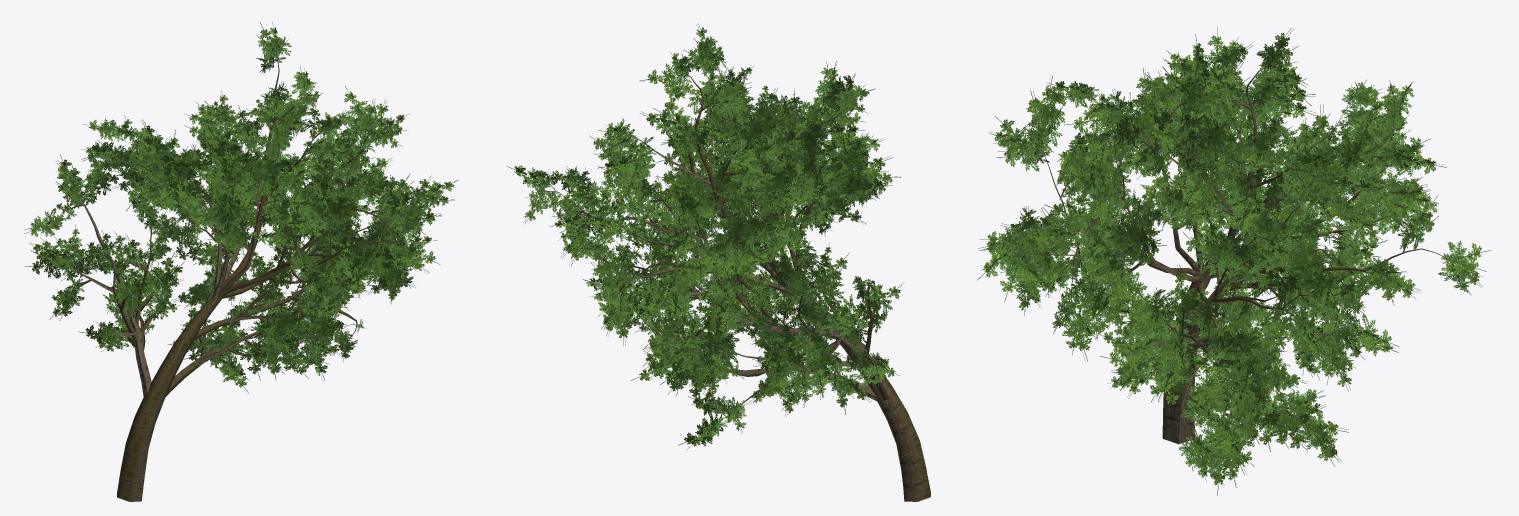
File: tree_lakeside_ash_scurve.glb
The picture shows the model from 3 angles, left to right: view 1: azimuth 30°, elevation 25°; view 2: azimuth 150°, elevation 25°; view 3: azimuth 270°, elevation 25°; orthographic projection. The views are drawn at different scales.
Visible parts, largest first — view 1: Leaves, Branches; view 2: Leaves, Branches; view 3: Leaves, Branches.
Part boxes in pixels (x1,y1,x2,y2): Leaves: [24, 22, 458, 393]; Branches: [64, 57, 422, 501]; Leaves: [506, 23, 903, 450]; Branches: [541, 64, 930, 501]; Leaves: [977, 27, 1490, 495]; Branches: [1007, 56, 1455, 452].
Size of the model in its own units: 14.42 by 15.56 by 14.47.
2 materials, 2 textured.
